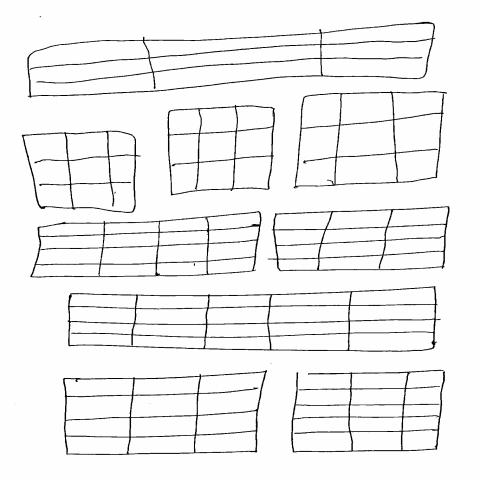Table: (28, 23, 436, 98), (68, 288, 441, 353), (64, 371, 268, 456), (31, 212, 262, 278), (295, 92, 448, 189), (292, 368, 447, 453), (268, 206, 450, 272), (23, 131, 142, 214), (169, 106, 276, 196)
